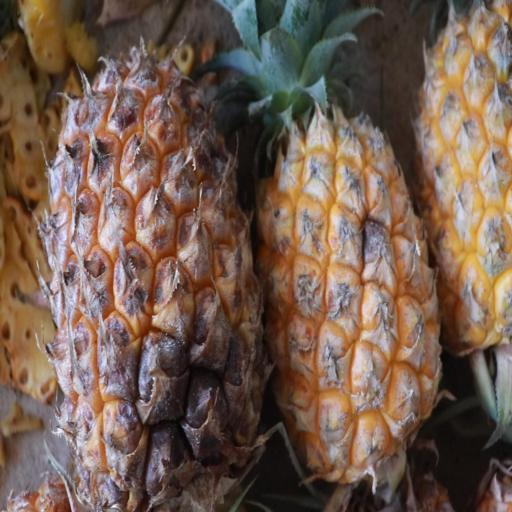Pineapple - v8 v1: (34, 37, 260, 512), (248, 23, 438, 485), (415, 0, 512, 376)
